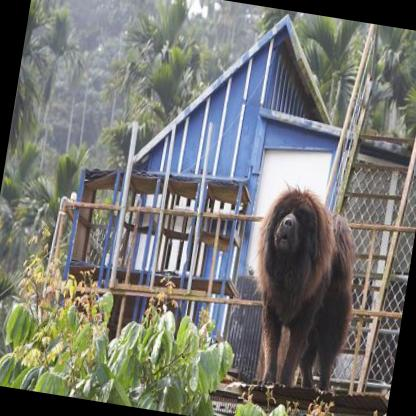Tibetan_mastiff: (233, 174, 374, 402)
